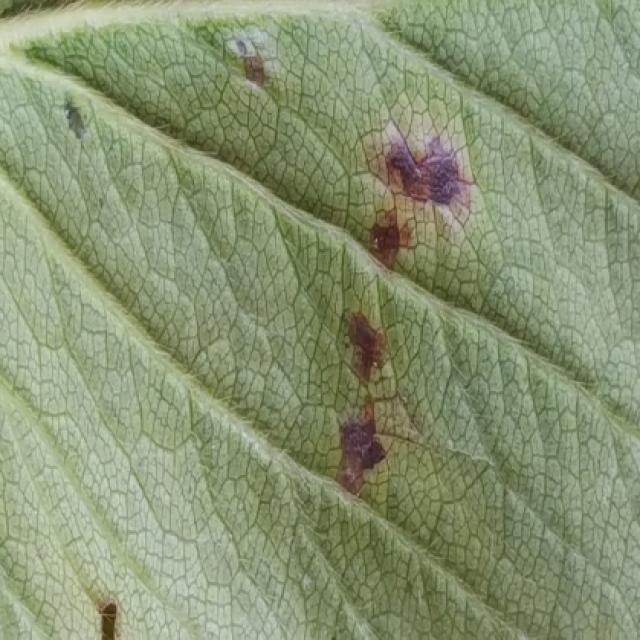Angular Leafspot: (44, 24, 488, 501)
